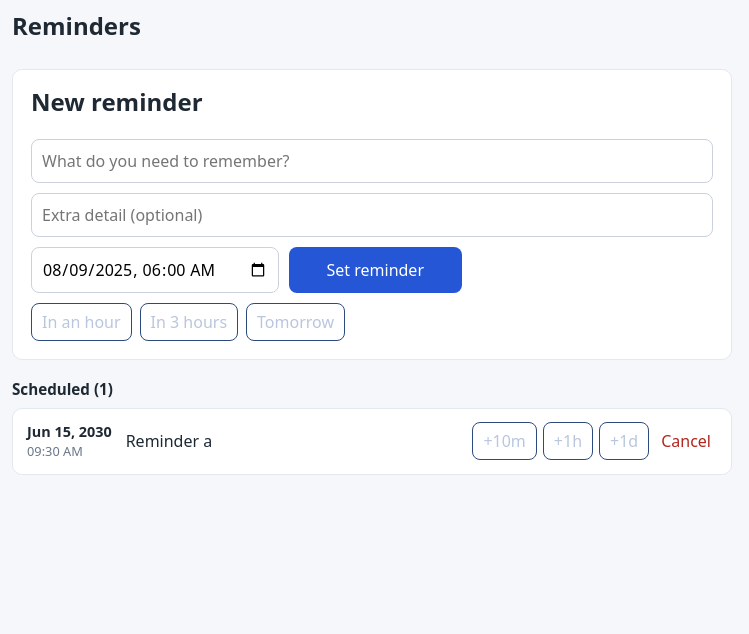
Test case: RemindersPage › moves a cancelled reminder out of the scheduled list
Check: the text "Reminder a" is shown, box [126,430,212,452]
Click the button "Cancel": point(686, 441) [655,428,717,454]
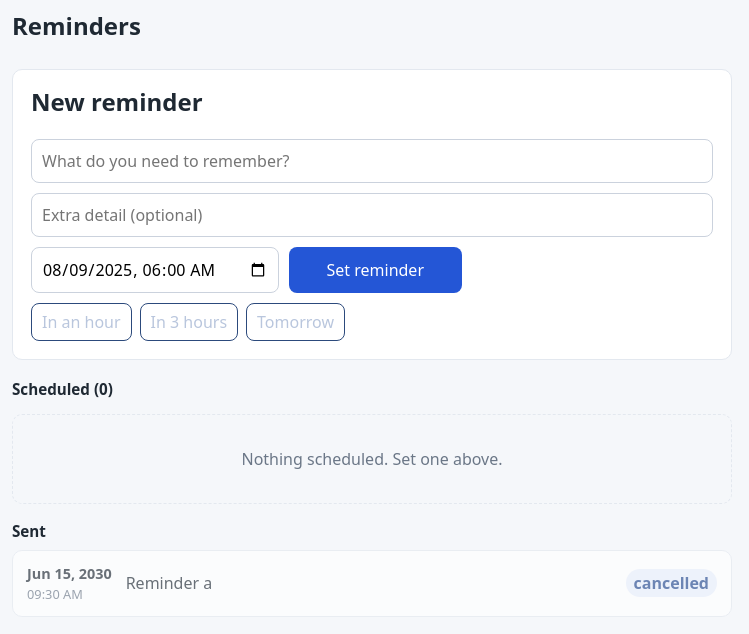
Check: the text "Reminder a" is shown, box [126,572,212,594]
Check: the heading "Scheduled (0)" is shown, box [12,379,113,399]
Check: the heading "Sent" is shown, box [12,521,46,541]
